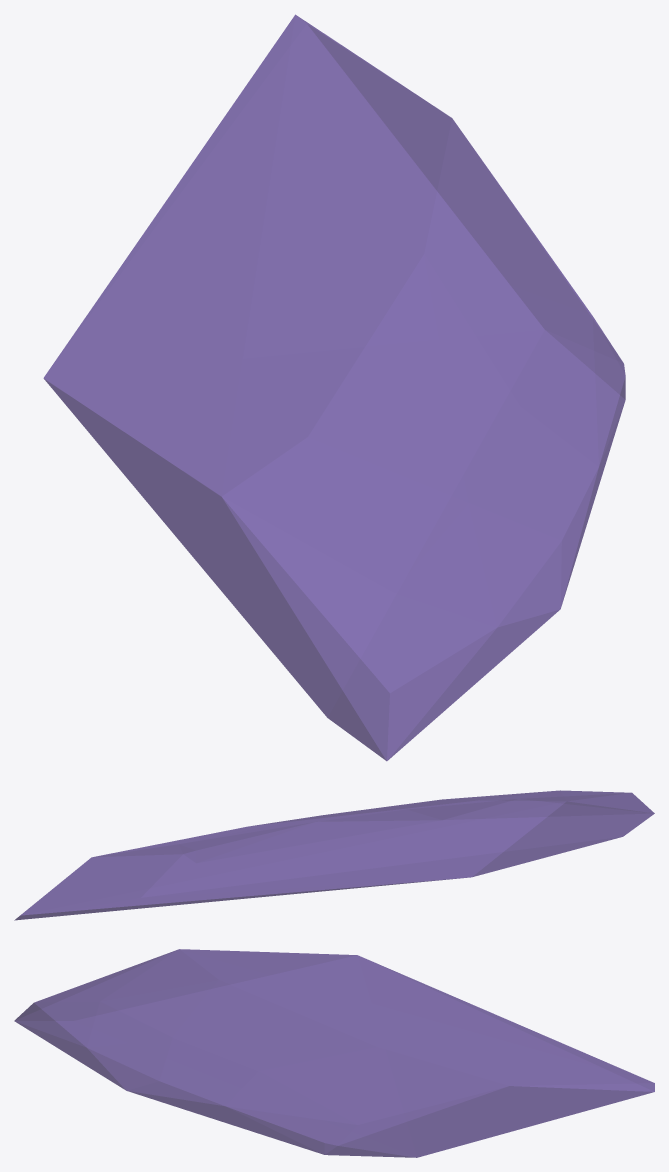
3 views of the same model, one above another, from view 1: azimuth 30°, elevation 25°; view 2: azimuth 150°, elevation 25°; view 3: azimuth 270°, elevation 25° (orthographic). The views are drawn at different scales.
Visible parts, largest first — view 1: Shape_IndexedFaceSet.012_Shape_IndexedFaceSet.17547; view 2: Shape_IndexedFaceSet.012_Shape_IndexedFaceSet.17547; view 3: Shape_IndexedFaceSet.012_Shape_IndexedFaceSet.17547.
Part boxes in pixels (x1,y1,x2,y2): Shape_IndexedFaceSet.012_Shape_IndexedFaceSet.17547: (43,14,625,761); Shape_IndexedFaceSet.012_Shape_IndexedFaceSet.17547: (14,790,654,920); Shape_IndexedFaceSet.012_Shape_IndexedFaceSet.17547: (14,949,654,1157).
Bounding box in the file's own units: 0.1331 × 0.0326 × 0.2634.
